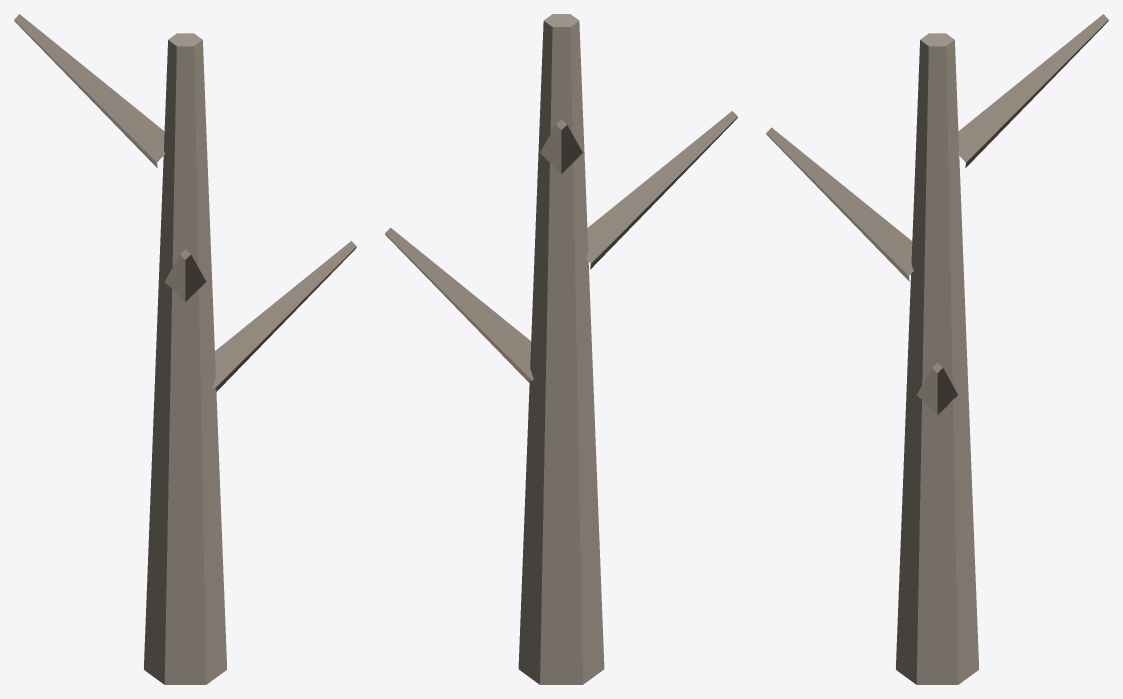
The model's file is deadtree_v32.glb.
3 views of the same model, side by side, from view 1: azimuth 30°, elevation 25°; view 2: azimuth 150°, elevation 25°; view 3: azimuth 270°, elevation 25° (orthographic). The views are drawn at different scales.
Parts seen in each view (by area): view 1: lod0; view 2: lod0; view 3: lod0.
Boxes of the visible parts, box(x1,y1,x2,y2) form: lod0: box(14, 14, 356, 684); lod0: box(385, 14, 737, 684); lod0: box(766, 14, 1108, 684).
Size of what is drawn, in the model's own units: 1.81 by 4.2 by 2.07.
